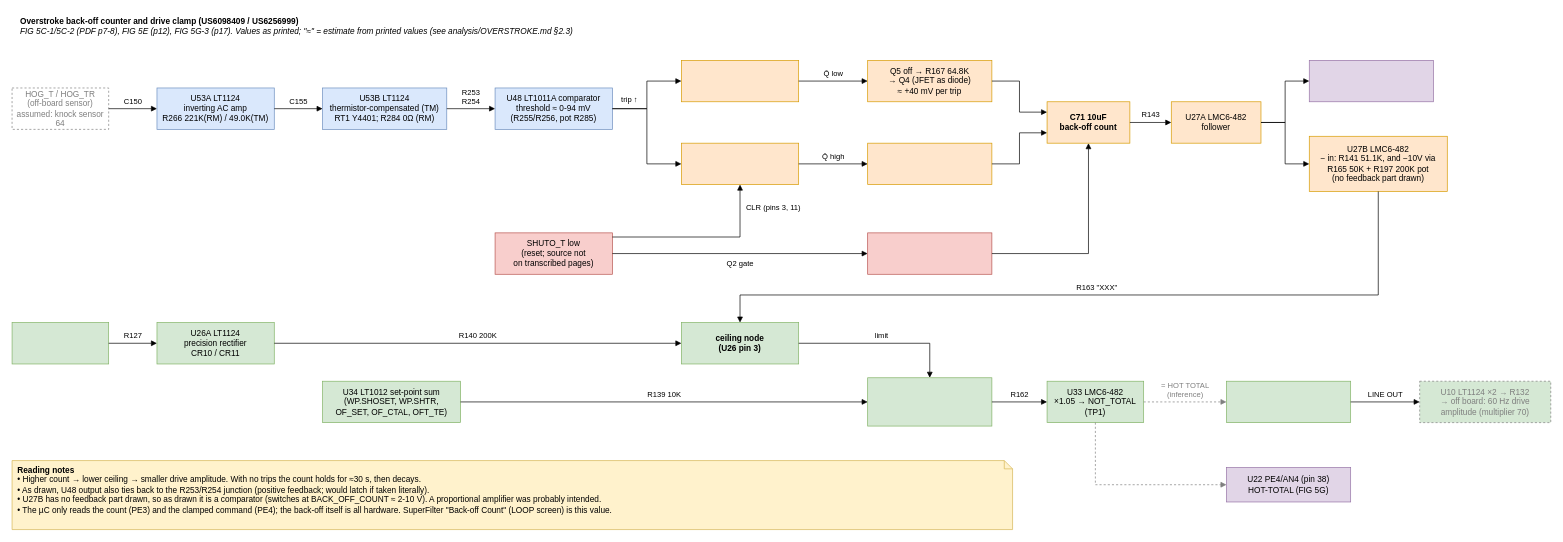
The diagram is 1563 pixels wide and 542 high, and some of its shapes have lost their labels. Each missing label, with the centre of its shape:
after ≈30 s with no trip: Q1 on, C71 bleeds via R130 1M (τ ≈ 10 s): the point at 929,163
CMTO_T → U11 → CMT_T: the point at 60,343
Q2 off → R190/R142 2.5 V → Q3 → C71 ≈ 1.9 V (zero-count baseline): the point at 929,253
U22 PE3/AN3 (pin 39) BACK_OFF_COUNT µC ADC (FIG 5G): the point at 1371,81
U26 LT1124 + CR14 ideal-diode clamp out = min(sum, ceiling): the point at 929,401
U28A HC123 (B = pin 2) ≈10 ms one-shot R144 10K / C53 2.2uF: the point at 740,81
U28B HC123 (B = pin 10) ≈30 s, retriggered R145 640K / C72 100uF: the point at 740,163
UX1 serial pot (FIG 5E) URF = HOT TOTAL set by µC over NSP bus: the point at 1288,402
